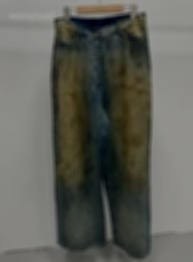earth: (61, 73, 86, 176), (123, 77, 145, 183)
